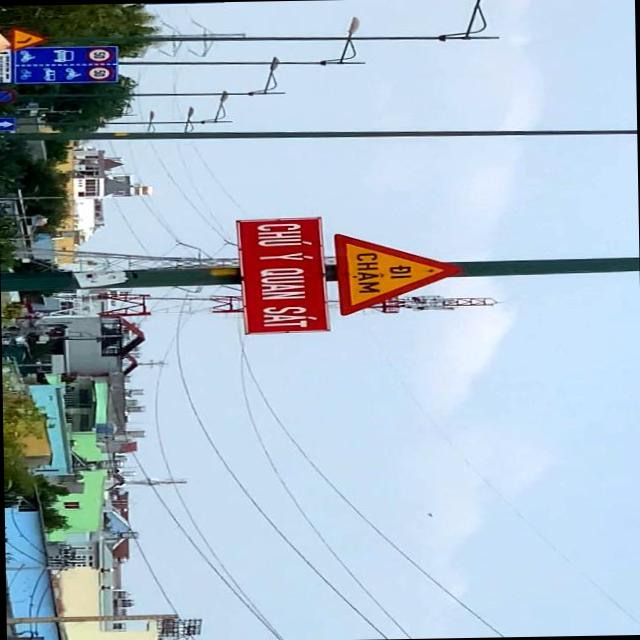P-127c: (14, 44, 113, 82)
W-201a: (8, 28, 44, 48)
W-245a: (329, 232, 462, 314)
